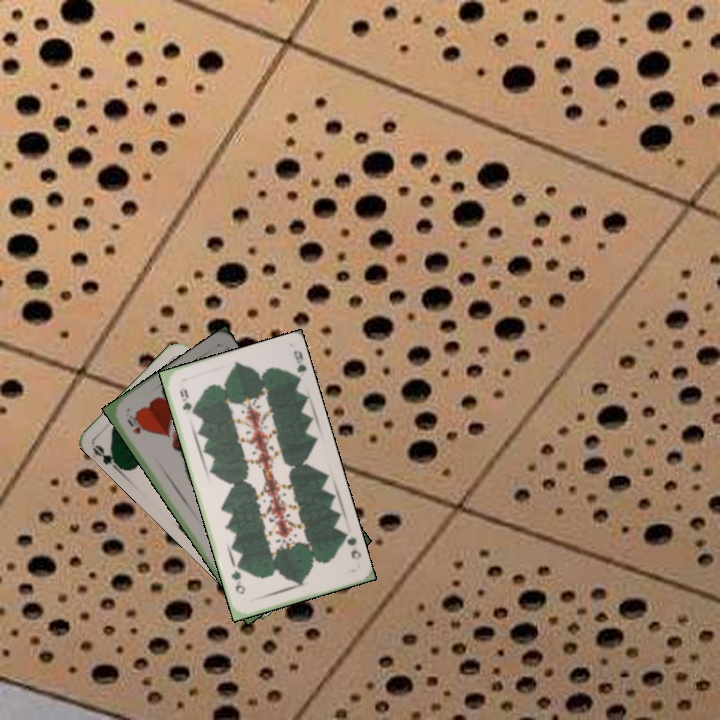G9: (339, 529, 364, 562), (176, 384, 195, 417)
GO: (89, 441, 126, 474)
HO: (123, 411, 143, 437)
